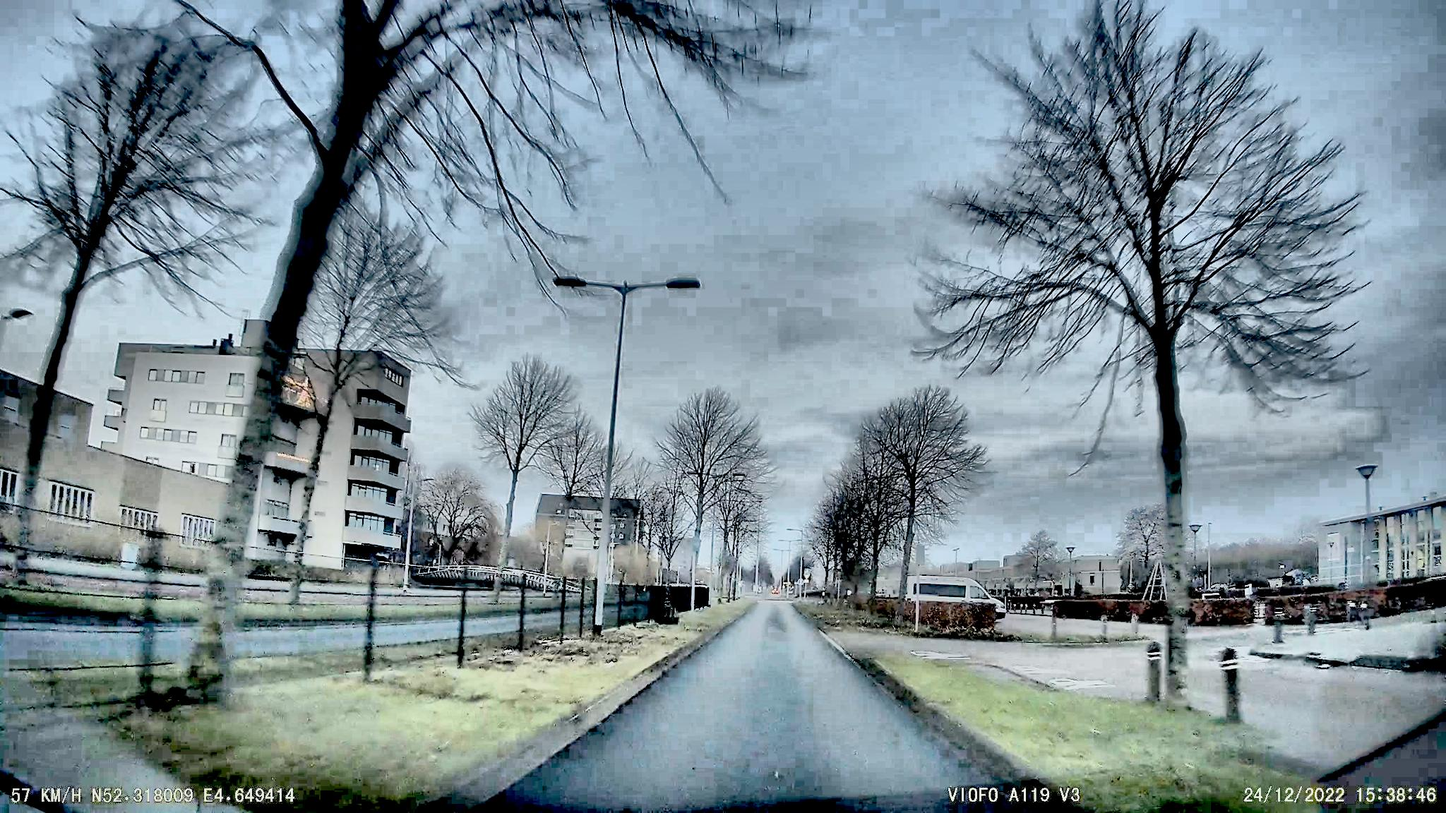Roads: (495, 607, 1046, 813)
